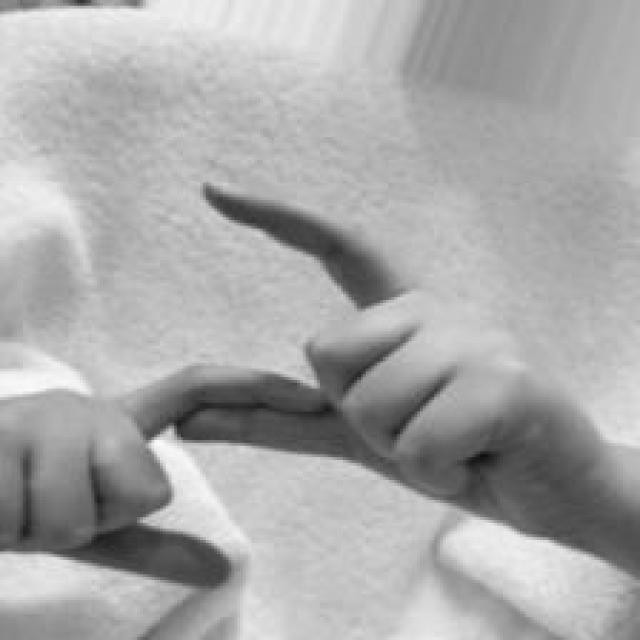S: (1, 170, 604, 593)
